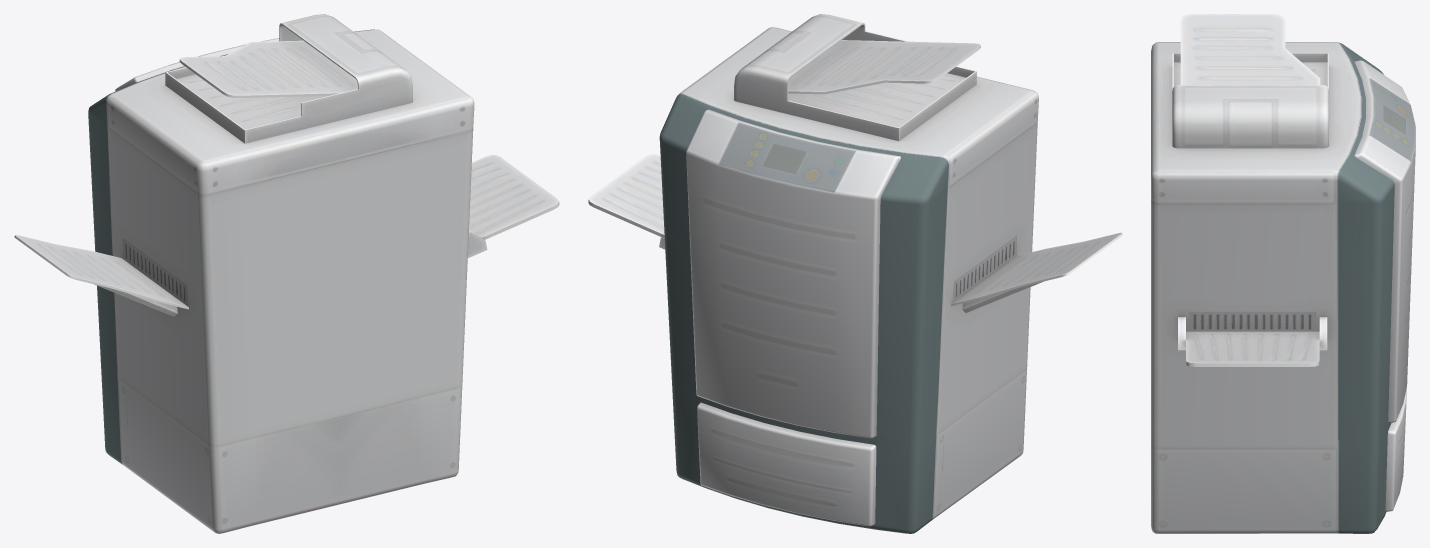
File: OfficePrinter02__2.fbx
The picture shows the model from 3 angles, left to right: view 1: azimuth 30°, elevation 25°; view 2: azimuth 150°, elevation 25°; view 3: azimuth 270°, elevation 25°; orthographic projection.
Parts seen in each view (by area): view 1: OfficePrinter02 1; view 2: OfficePrinter02 1; view 3: OfficePrinter02 1.
Boxes of the visible parts, x1,y1,x2,y2 form: OfficePrinter02 1: (14,14,559,533); OfficePrinter02 1: (588,14,1122,533); OfficePrinter02 1: (1151,14,1415,533).
Size of the model in its own units: 1.76 by 1.46 by 0.8383.
1 material, 1 textured.
